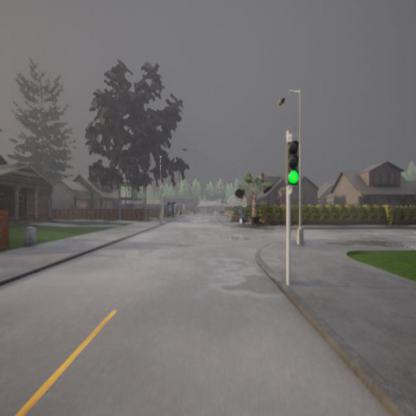traffic_light_green: (287, 140, 299, 186)
